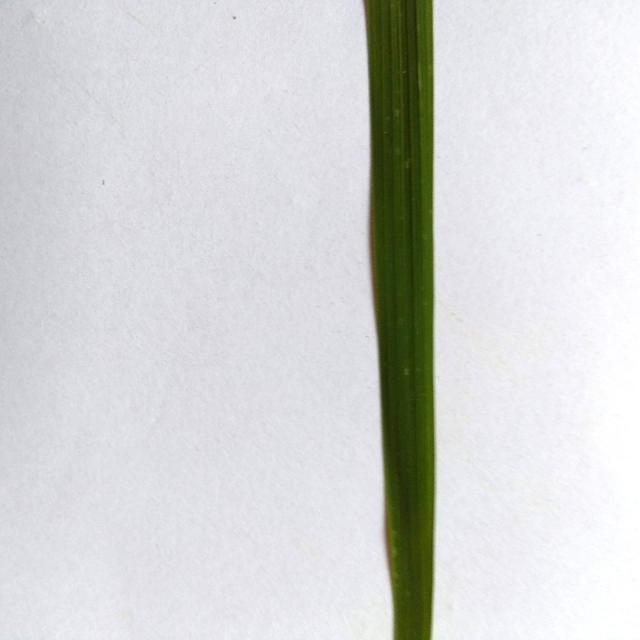healthy: (338, 2, 492, 640)
